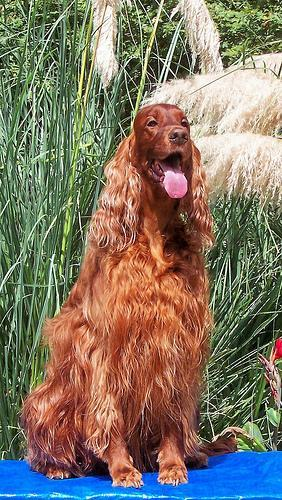Irish_setter: (28, 100, 239, 491)
